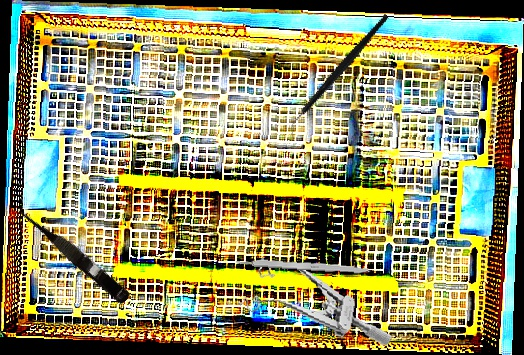Chopper: (261, 13, 417, 138)
Micro Scissor: (12, 200, 134, 306)
Scalpel Handle: (235, 256, 373, 275)
Speculum: (233, 253, 403, 347)
